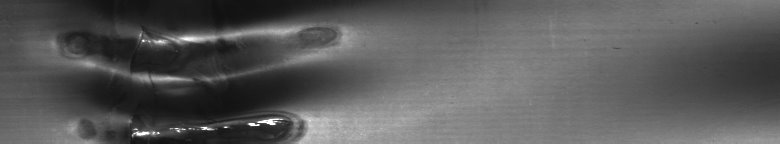ke: (43, 4, 380, 136)
